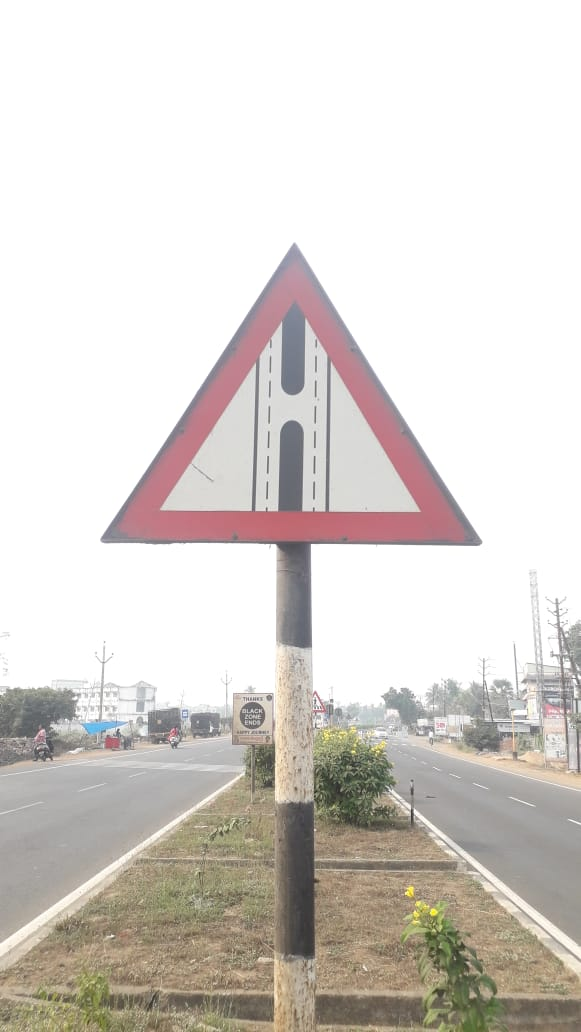highway go straight: (67, 227, 489, 585)
